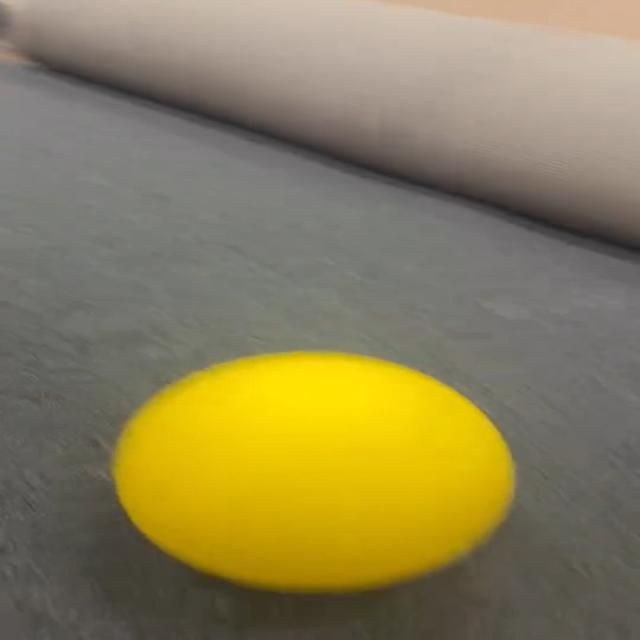Fuels: (111, 351, 515, 590)
